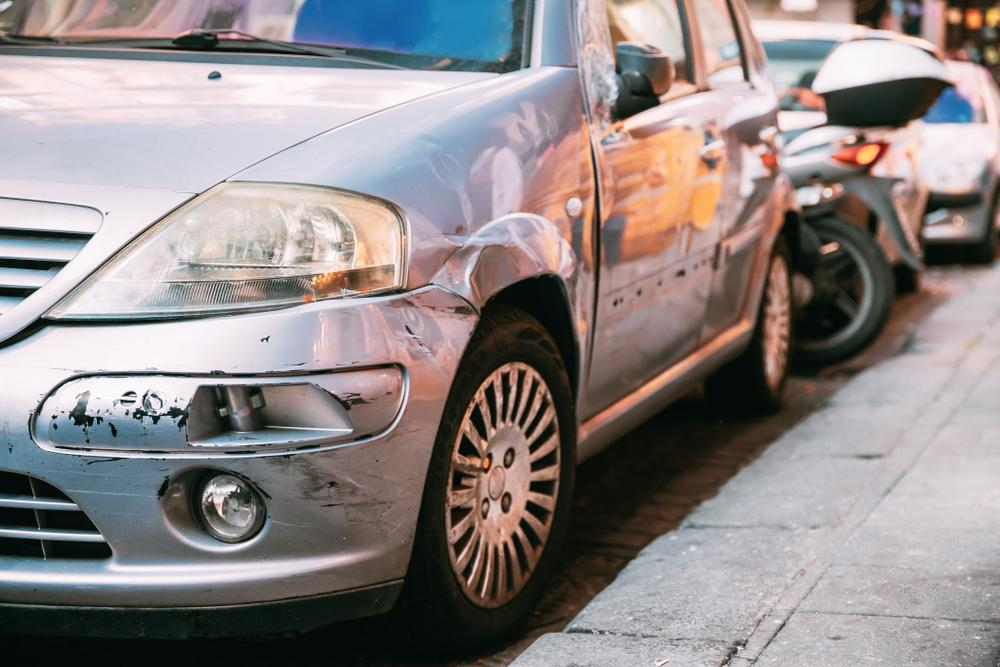dent: (426, 143, 526, 310), (375, 283, 476, 364)
scratch: (60, 376, 401, 541)
